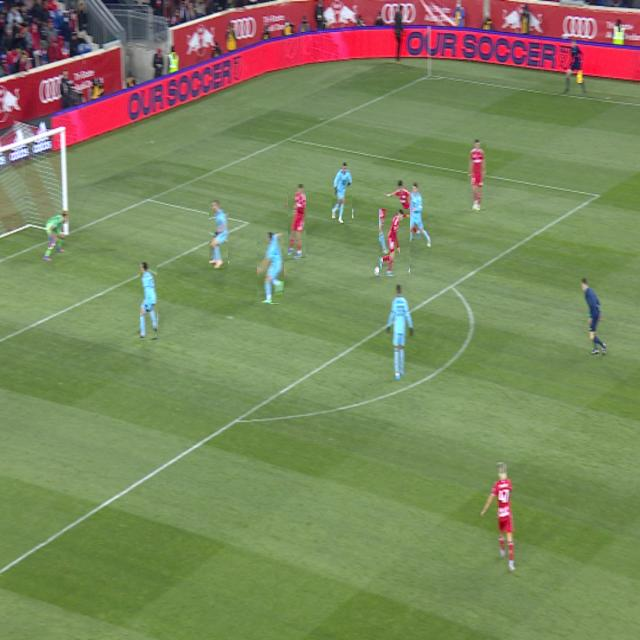football: (374, 266, 382, 276)
goalkeeper: (43, 211, 67, 261)
player: (481, 462, 515, 571), (387, 284, 413, 380), (401, 183, 430, 254), (380, 210, 410, 276), (257, 233, 284, 303), (384, 180, 412, 229), (288, 184, 306, 258), (468, 140, 486, 211), (140, 263, 157, 338), (210, 200, 228, 268), (333, 162, 352, 224), (413, 224, 420, 234), (409, 232, 412, 241)
referee: (581, 278, 606, 354)
